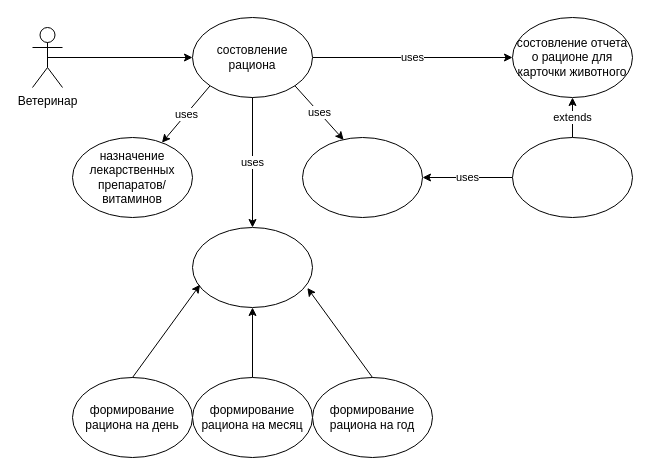
This 650x475 diagram has some shape labels left out. Here are the shapes that lost their labels. From the top down, the centre of each, then its label:
At point (362, 177): "поиск карточки животного".
At point (572, 177): "изменение/дополнение карточки животного".
At point (252, 267): "формирование рациона".
